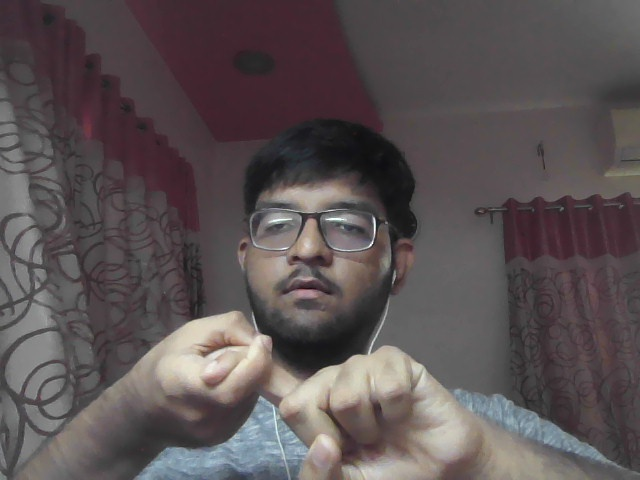મિત્ર: (104, 307, 493, 480)
